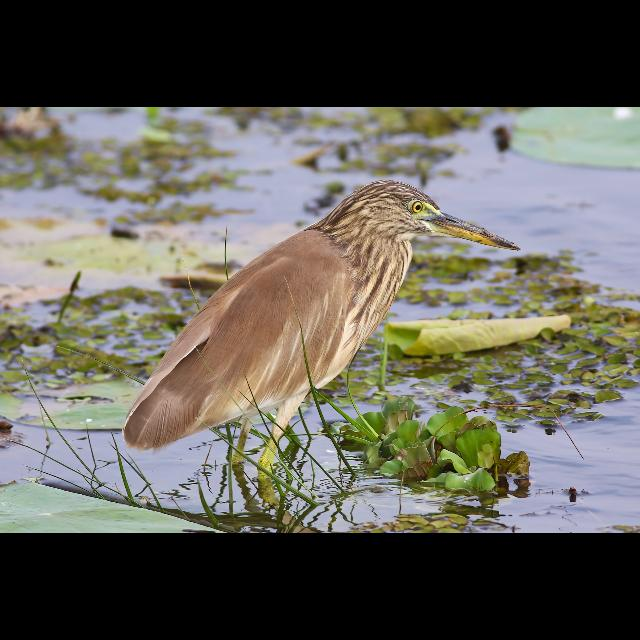heron: (126, 178, 518, 474)
